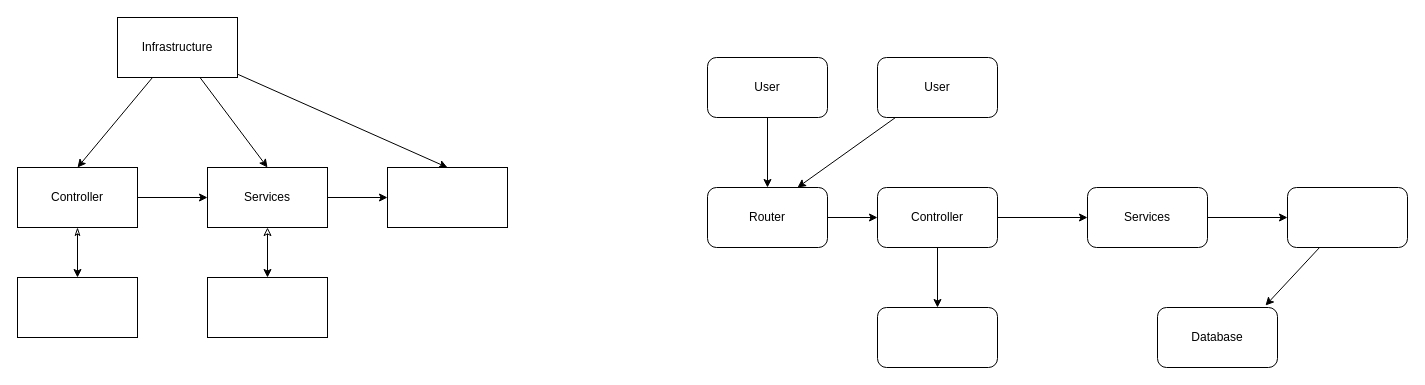
Image size: 1425x385. Some labels were removed from this diagram. The shapes that lost their labels are listed below. From the top down, each one's centre as x and y in pixels, then its label:
At (447,197): "Domain".
At (1347,217): "Repository".
At (77,307): "Home".
At (267,307): "Third-Party".
At (937,337): "Model/entity".
